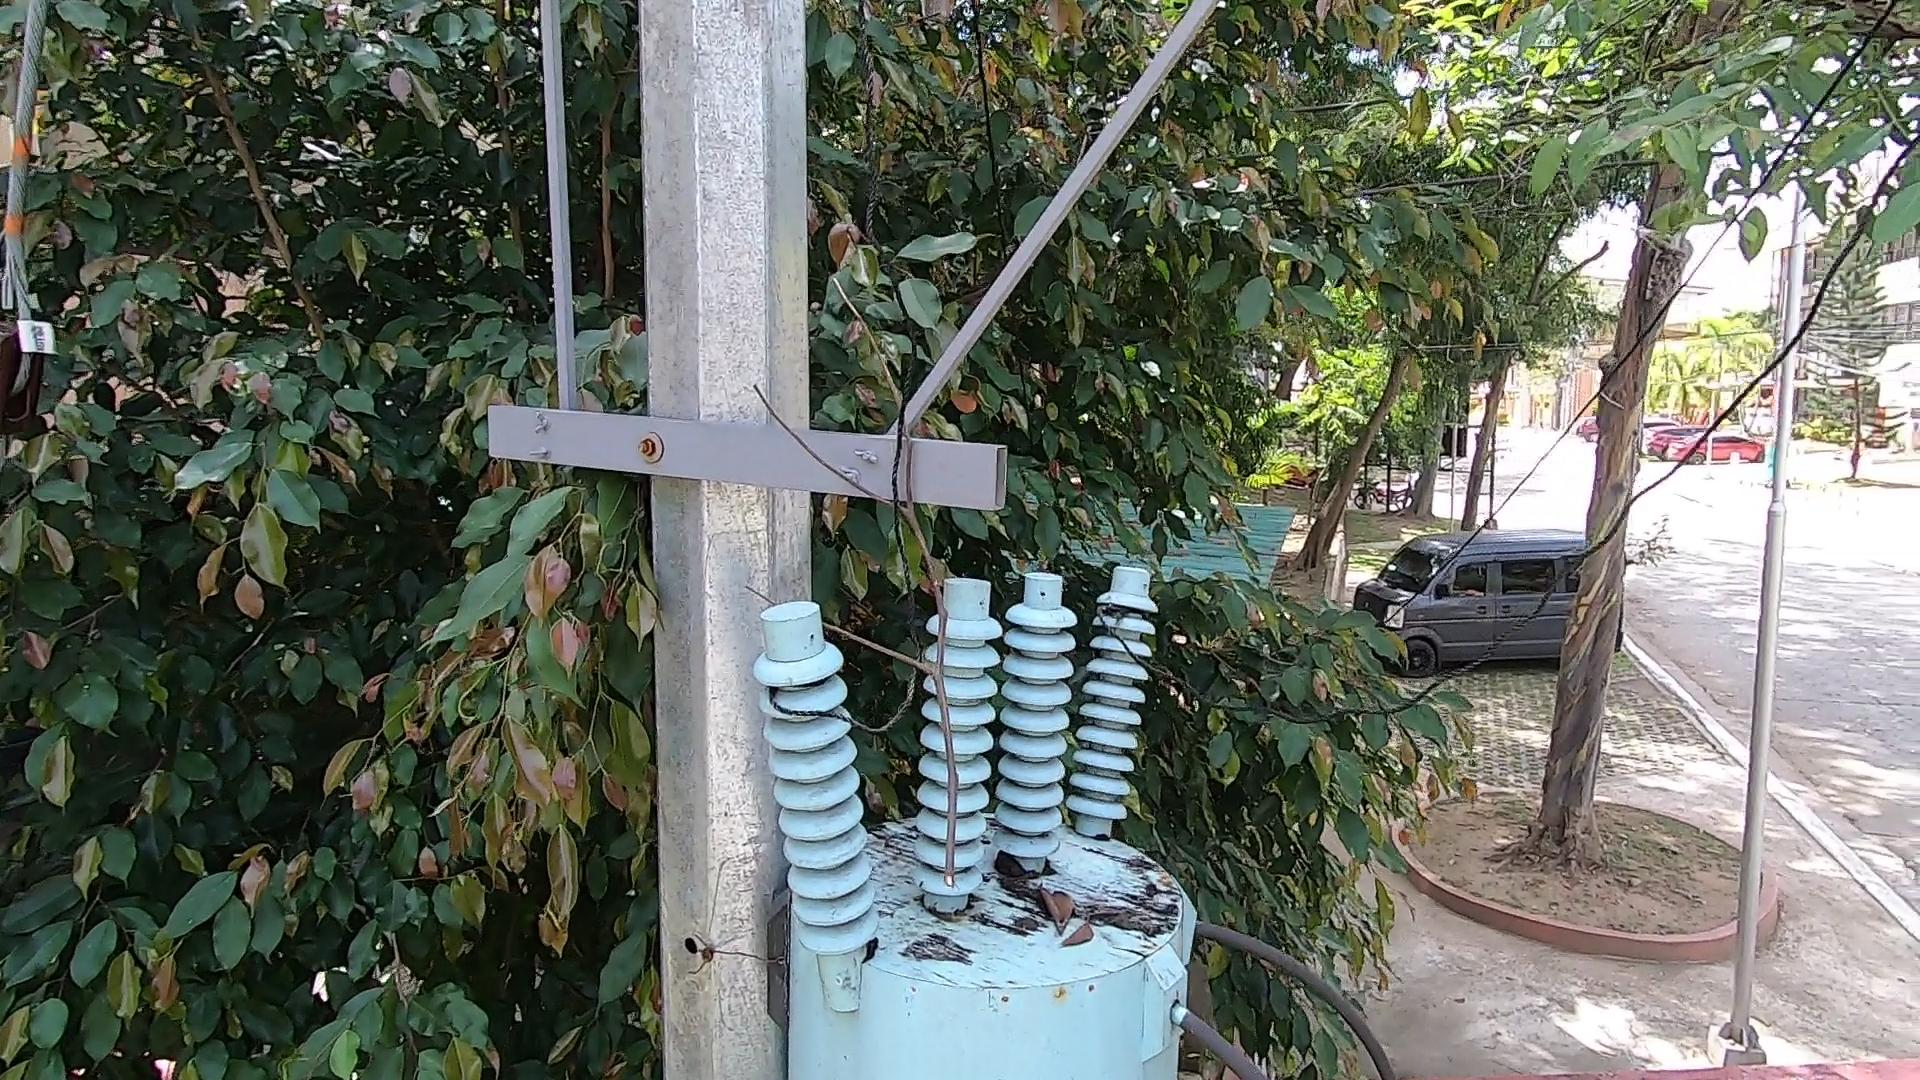leaf: (981, 855, 1104, 955)
tree branch: (738, 278, 992, 885)
